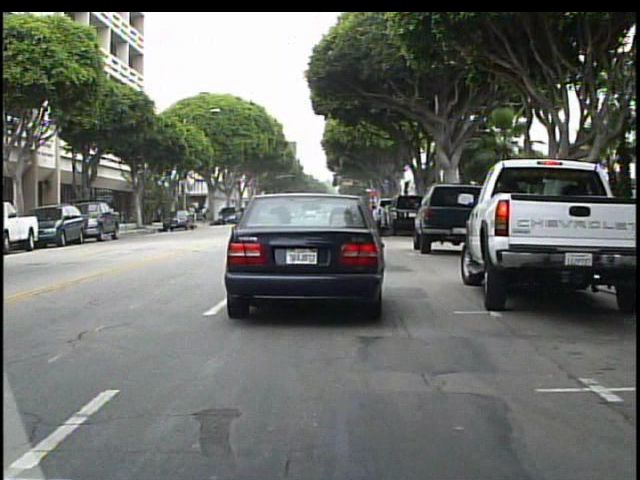person: (186, 203, 198, 228), (200, 203, 212, 227)
